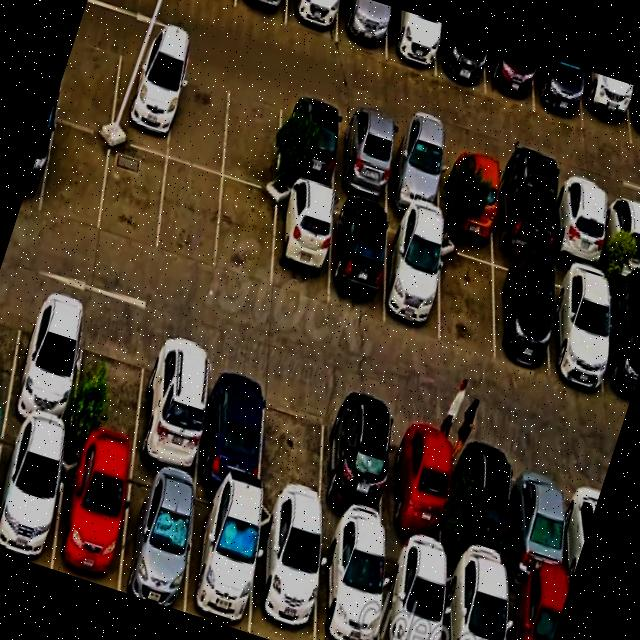empty: (70, 310, 149, 461), (259, 373, 327, 522), (40, 121, 111, 232), (99, 141, 167, 254), (55, 24, 123, 136), (167, 59, 230, 174), (223, 75, 284, 193), (157, 160, 222, 270), (215, 179, 276, 289), (440, 235, 494, 359), (0, 281, 26, 416)
occupied: (6, 288, 87, 439), (53, 443, 131, 591), (135, 331, 211, 482), (118, 463, 195, 612), (184, 485, 259, 633), (197, 351, 269, 499), (323, 391, 393, 542), (385, 410, 450, 562), (0, 421, 66, 569), (250, 505, 320, 640), (455, 431, 515, 580), (510, 448, 565, 597), (111, 40, 181, 157), (272, 182, 334, 305), (317, 528, 384, 640), (550, 264, 606, 392), (328, 199, 387, 320), (384, 216, 439, 341), (494, 251, 549, 371), (279, 93, 339, 193), (381, 544, 443, 640), (497, 159, 550, 262), (336, 109, 391, 207), (443, 142, 495, 242), (389, 125, 441, 222), (445, 563, 506, 640), (557, 176, 603, 272), (607, 280, 640, 406), (581, 68, 631, 145), (506, 580, 567, 640), (486, 38, 536, 111), (534, 54, 583, 128), (20, 114, 56, 214), (436, 22, 486, 94), (386, 6, 436, 76), (606, 190, 640, 283), (337, 0, 387, 57), (286, 0, 340, 42), (236, 0, 287, 26), (627, 83, 640, 148)
